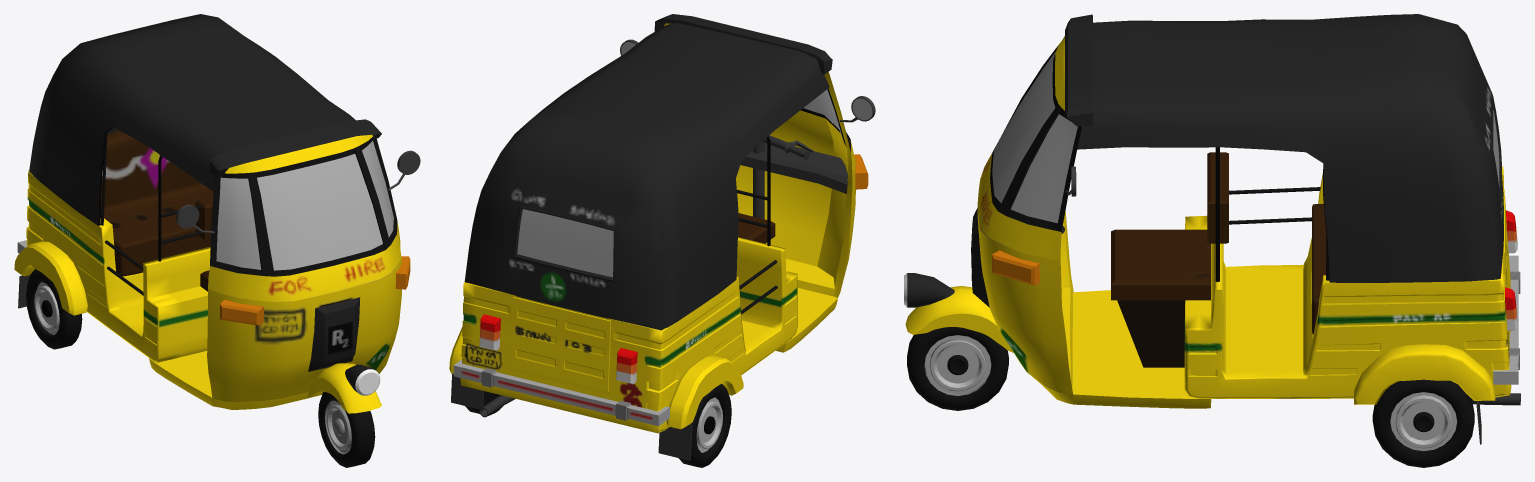
The model's file is autorickshaw.glb.
The picture shows the model from 3 angles, left to right: view 1: azimuth 30°, elevation 25°; view 2: azimuth 150°, elevation 25°; view 3: azimuth 270°, elevation 25°; orthographic projection. The views are drawn at different scales.
Parts seen in each view (by area): view 1: persp5; view 2: persp5; view 3: persp5.
Part boxes in pixels (x1,y1,x2,y2): persp5: [14, 14, 420, 467]; persp5: [449, 14, 875, 467]; persp5: [904, 14, 1520, 467].
Size of the model in its own units: 1.5 by 1.74 by 2.72.
2 materials, 1 textured.
